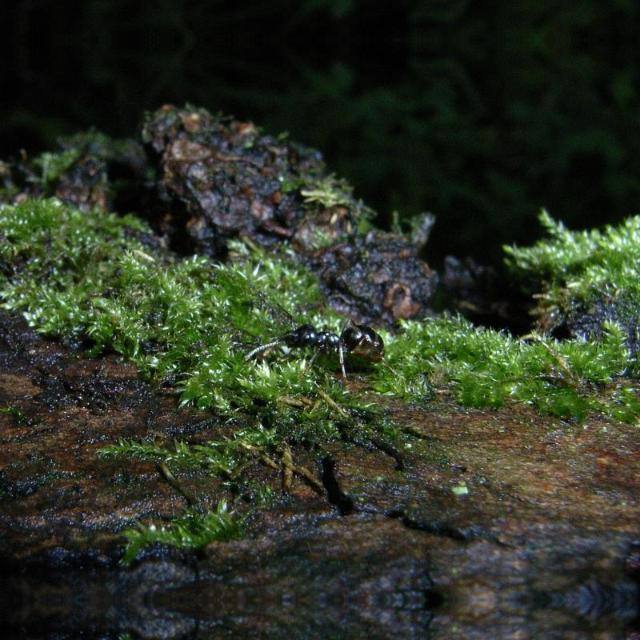Lasius: (264, 293, 392, 383)
